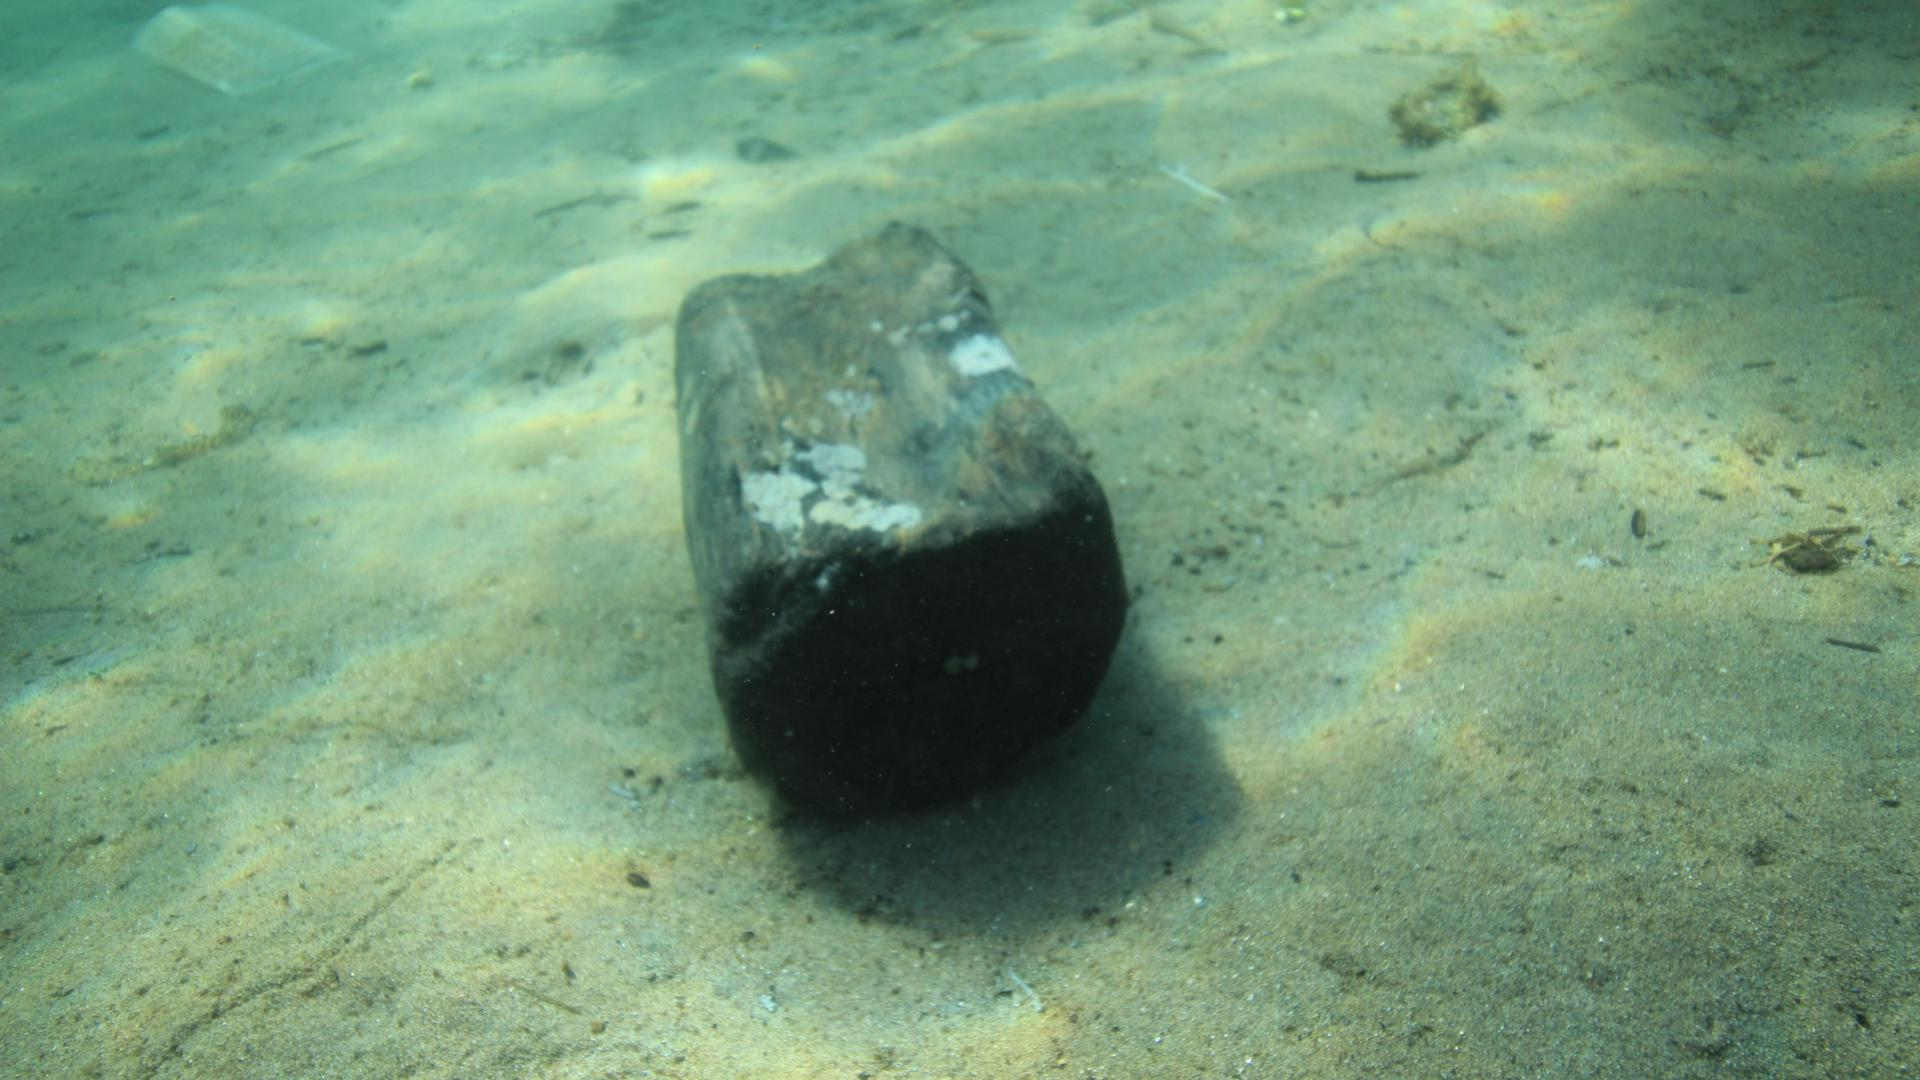wood: (673, 222, 1127, 822)
